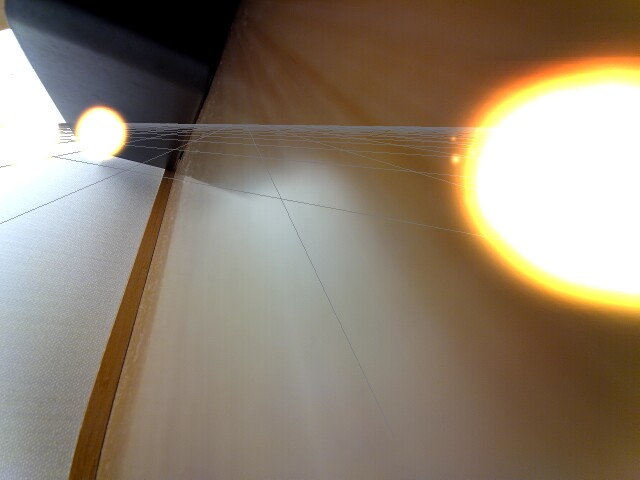fire: (453, 48, 640, 320), (7, 94, 63, 170), (70, 101, 130, 162)
